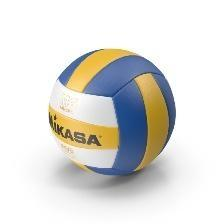Sports-Ball: (44, 44, 180, 183)
